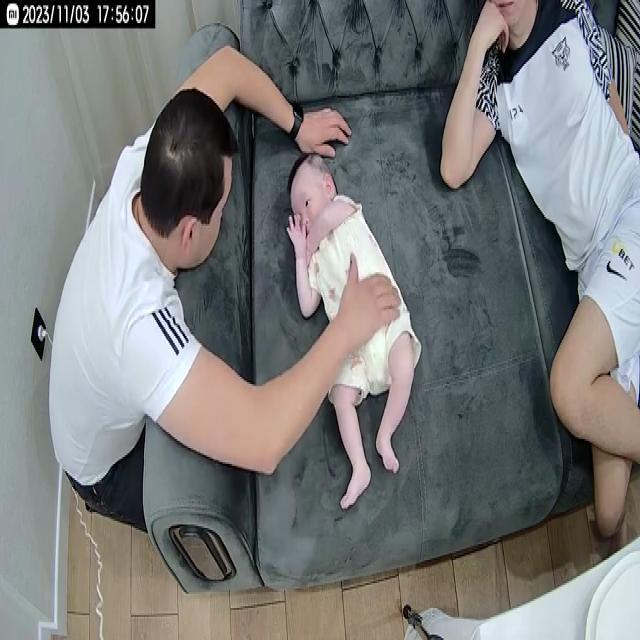baby: (285, 150, 423, 510)
